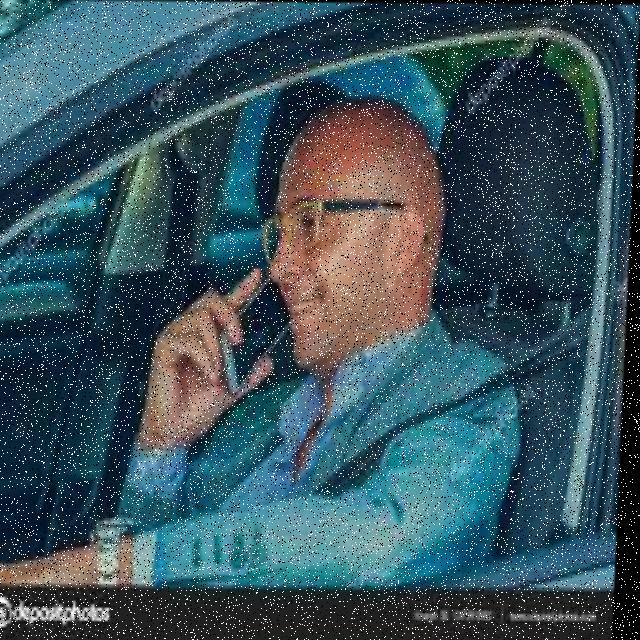seatbelt: (190, 320, 540, 576)
